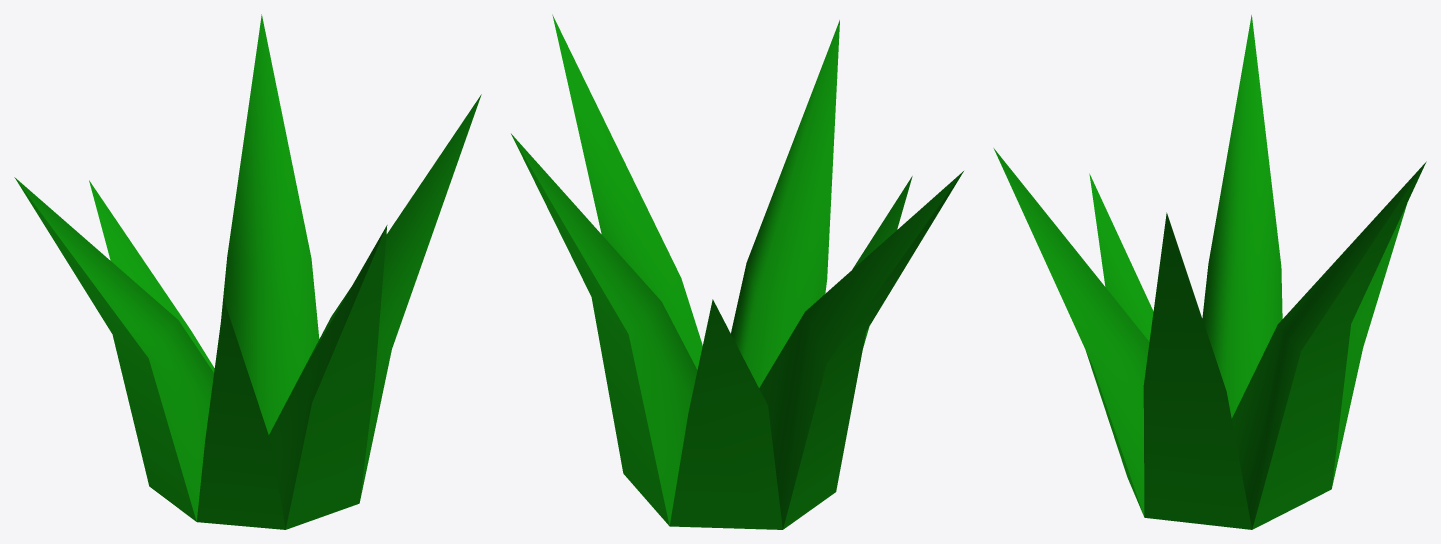
The model's file is food.glb.
3 views of the same model, side by side, from view 1: azimuth 30°, elevation 25°; view 2: azimuth 150°, elevation 25°; view 3: azimuth 270°, elevation 25° (orthographic). The views are drawn at different scales.
Parts seen in each view (by area): view 1: Grass_6; view 2: Grass_6; view 3: Grass_6.
Part boxes in pixels (<box>): Grass_6: <box>14,14,481,529</box>; Grass_6: <box>511,14,963,529</box>; Grass_6: <box>993,15,1426,529</box>.
Bounding box in the file's own units: 0.9416 × 0.7954 × 0.8276.
